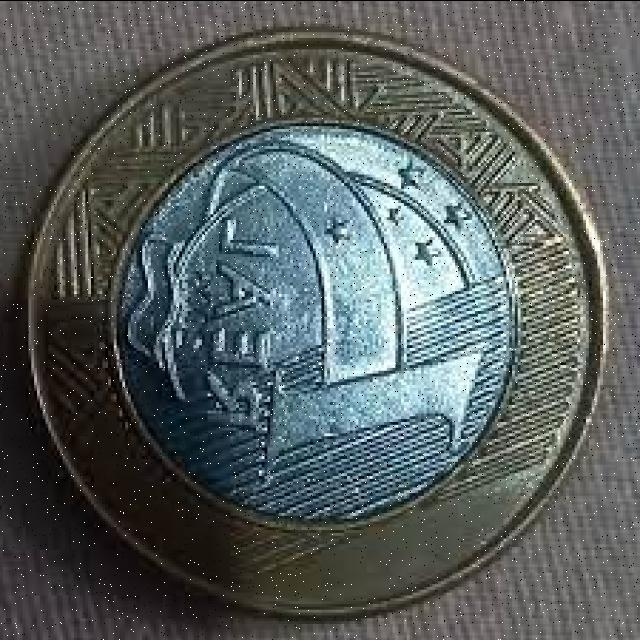1 real: (19, 35, 608, 608)
